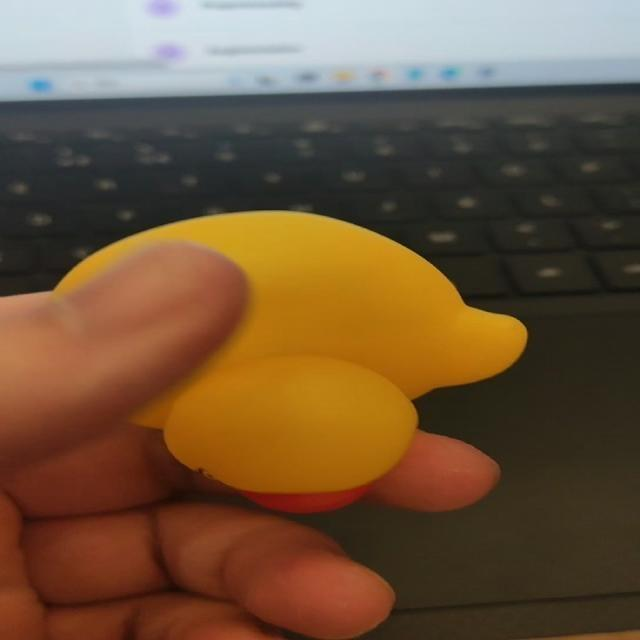rubber-duck: (55, 210, 525, 510)
